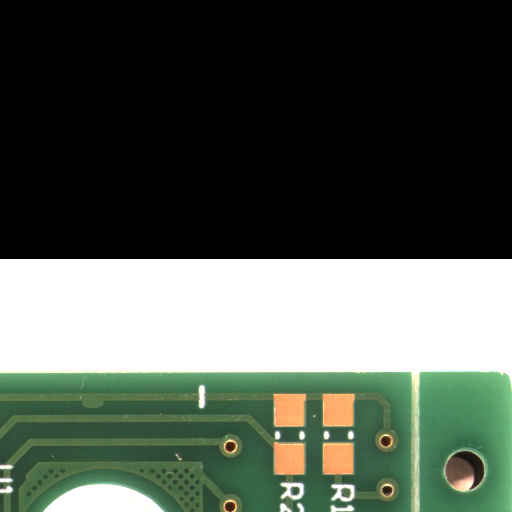Spur: (93, 403, 122, 414)
